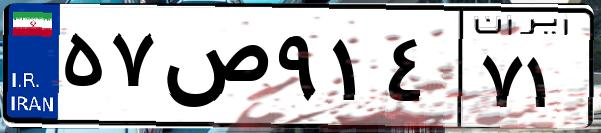1: (330, 28, 385, 110), (525, 38, 570, 115)
4: (385, 28, 445, 110)
5: (57, 26, 110, 100)
7: (475, 38, 525, 113), (110, 28, 158, 98)
9: (270, 28, 330, 110)
ص: (158, 20, 270, 120)
